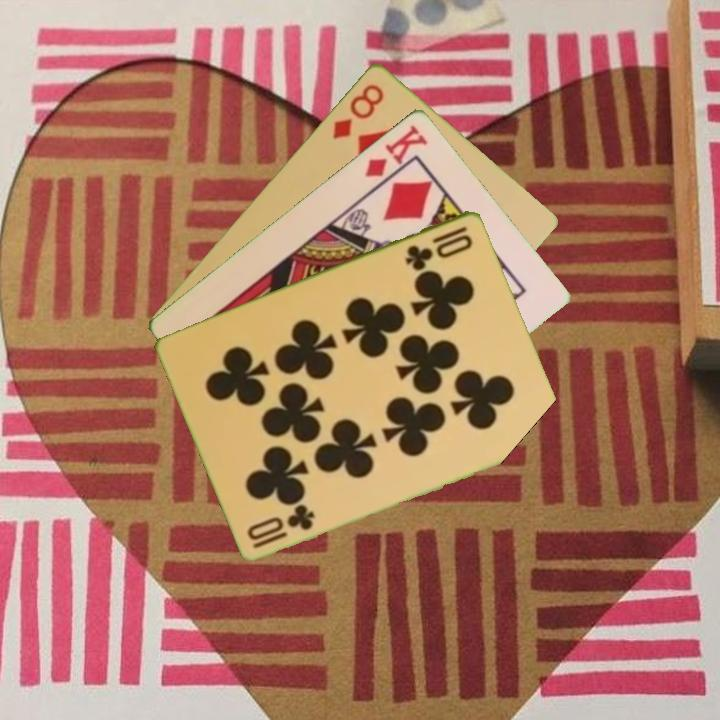10c: (402, 222, 476, 273), (243, 503, 318, 551)
8d: (329, 79, 387, 142)
Kd: (361, 120, 431, 180)
